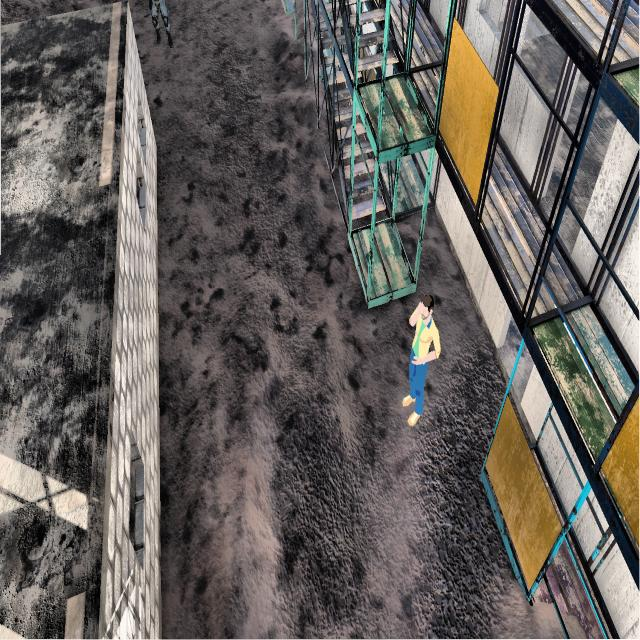bad: (146, 0, 176, 59)
good: (391, 284, 446, 441)
